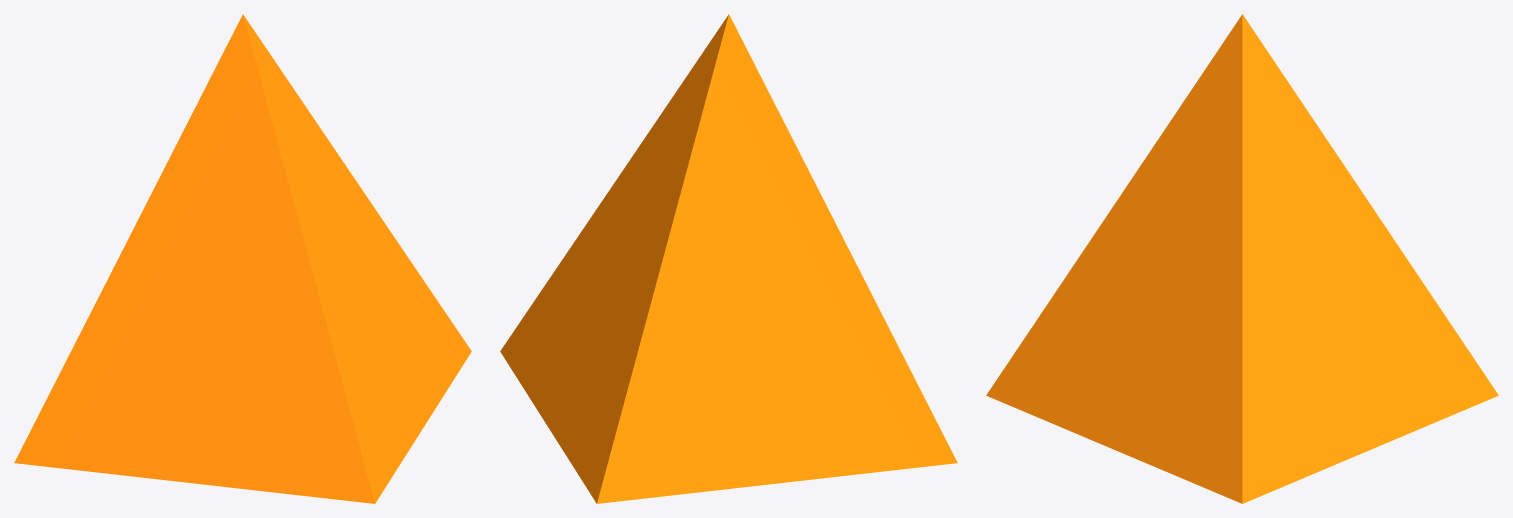
The picture shows the model from 3 angles, left to right: view 1: azimuth 30°, elevation 25°; view 2: azimuth 150°, elevation 25°; view 3: azimuth 270°, elevation 25°; orthographic projection. The views are drawn at different scales.
Parts seen in each view (by area): view 1: BasePyramid.002; view 2: BasePyramid.002; view 3: BasePyramid.002.
Part boxes in pixels (left/top/right/bottom): BasePyramid.002: left=14, top=14, right=471, bottom=503; BasePyramid.002: left=500, top=14, right=957, bottom=503; BasePyramid.002: left=986, top=14, right=1498, bottom=503.
Size of what is drawn, in the model's own units: 0.9142 by 0.7506 by 0.9142.
1 material, 1 textured.
